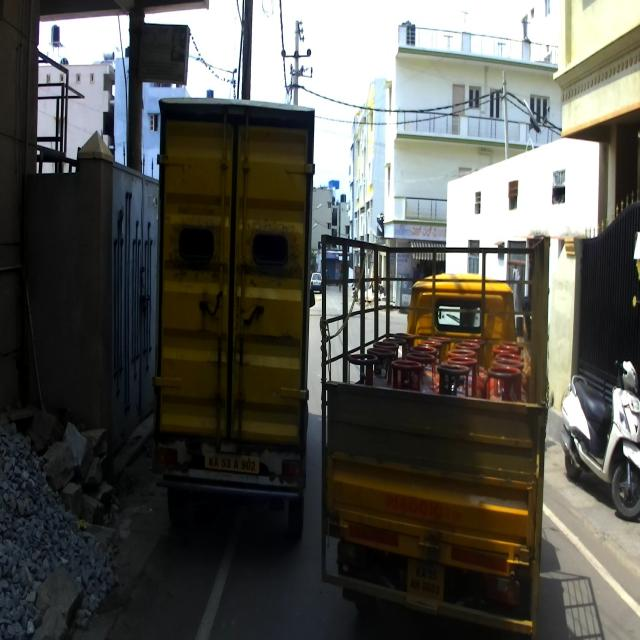Car_Maruti-Suzuki: (310, 270, 323, 290)
autorickshaw: (320, 232, 550, 639)
scooter: (560, 361, 640, 518)
truck: (148, 89, 315, 541)
